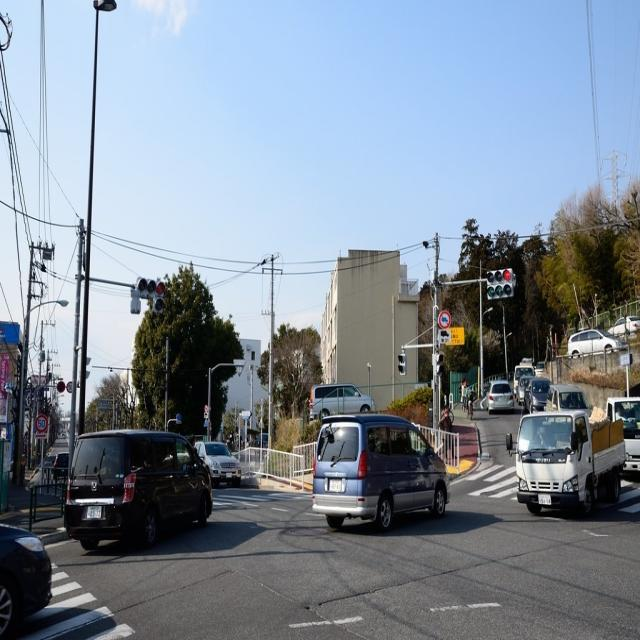green light: (488, 286, 514, 298)
red light: (138, 279, 164, 297), (486, 270, 513, 282)
